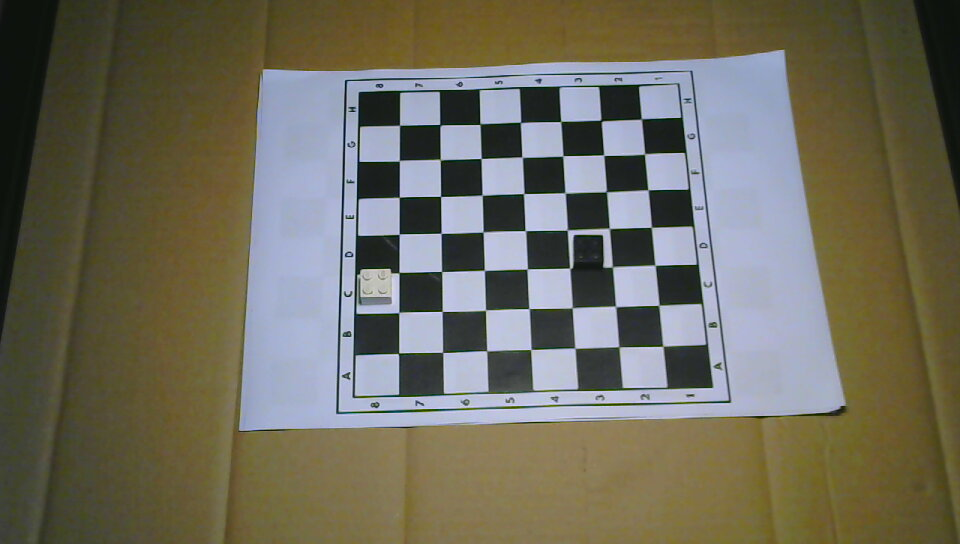bp: (572, 233, 605, 271)
wp: (357, 267, 394, 306)
